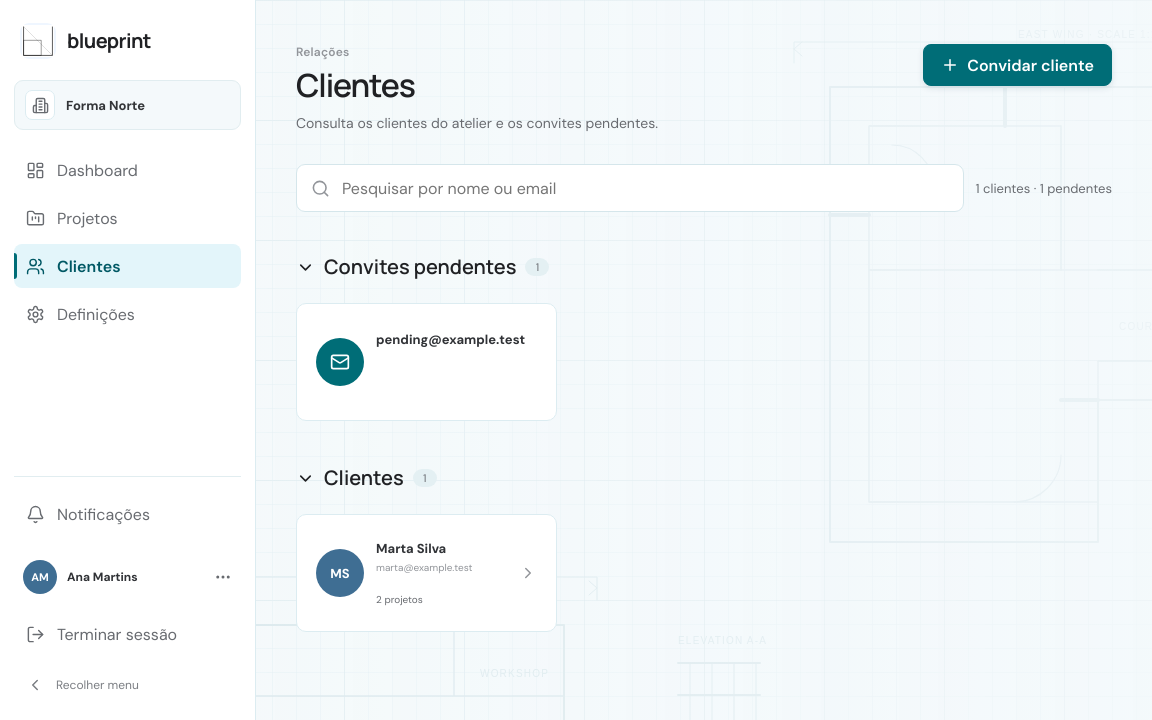
Test: CompanyClientPage › keeps the invite dialog open and reports duplicate invitation errors
The image size is (1152, 720).
Step 1. Click the button "Convidar cliente" → (1018, 65), box left=923, top=44, right=1112, bottom=86
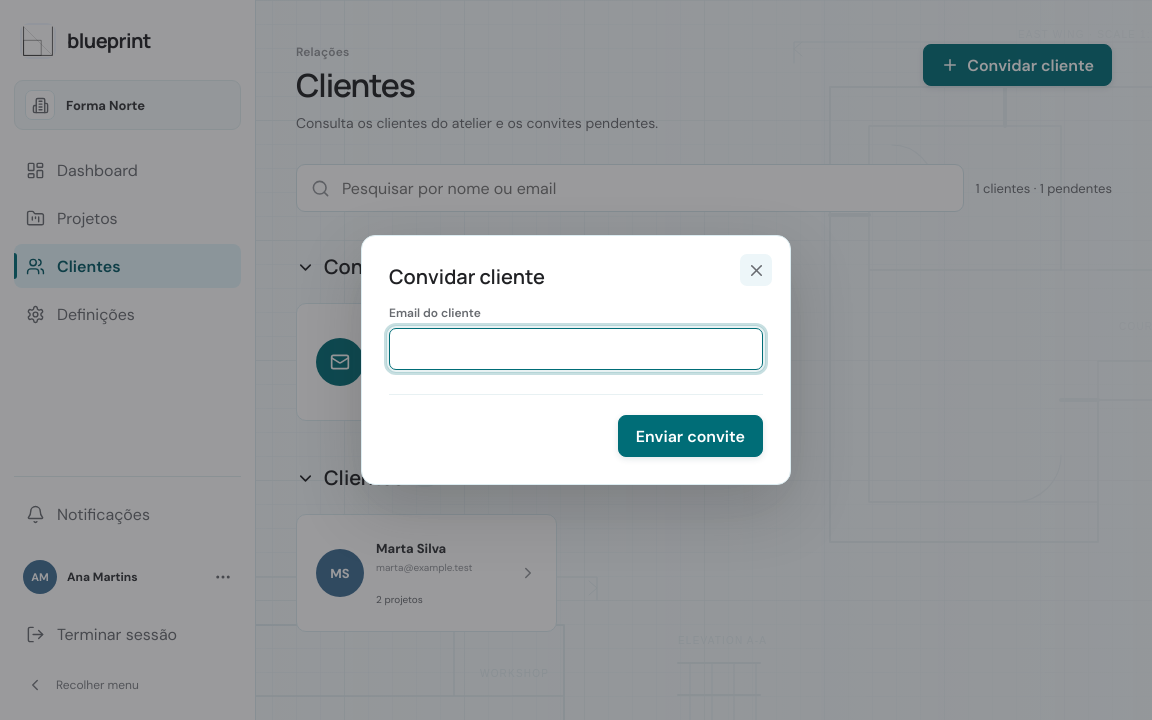
Step 2. Type "pending@example.test" into the field labelled "Email do cliente" → (576, 349), box left=389, top=328, right=763, bottom=370
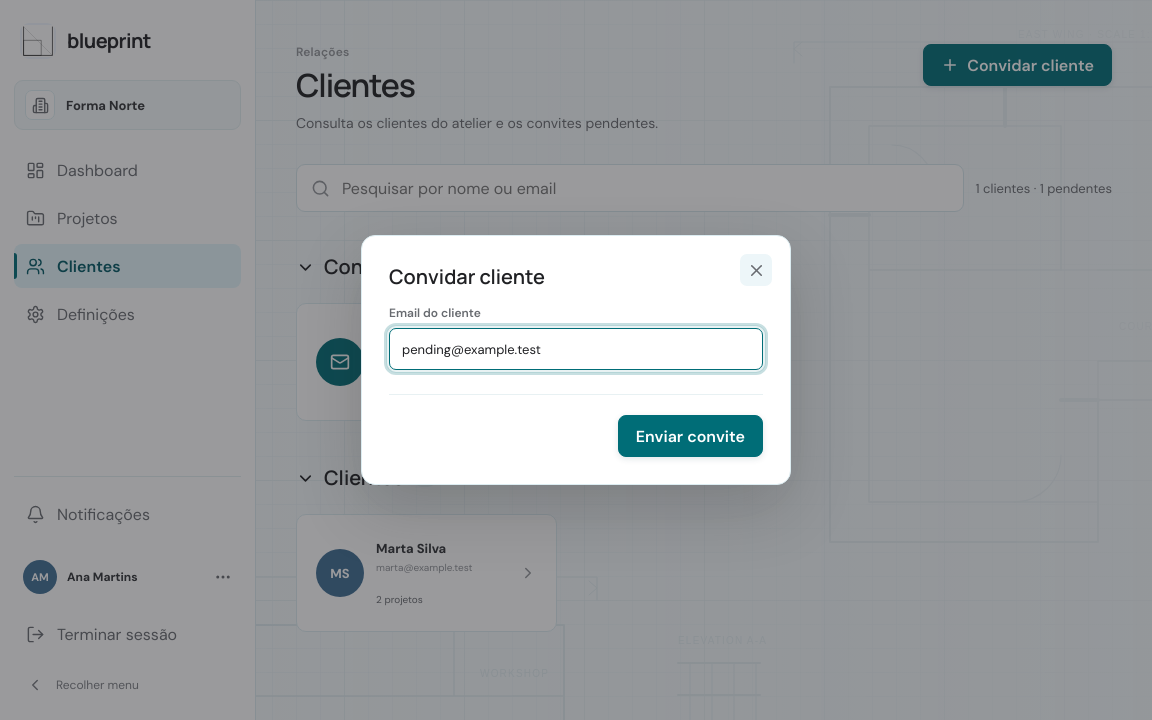
Step 3. Click the button "Enviar convite" → (690, 436), box left=618, top=415, right=763, bottom=457
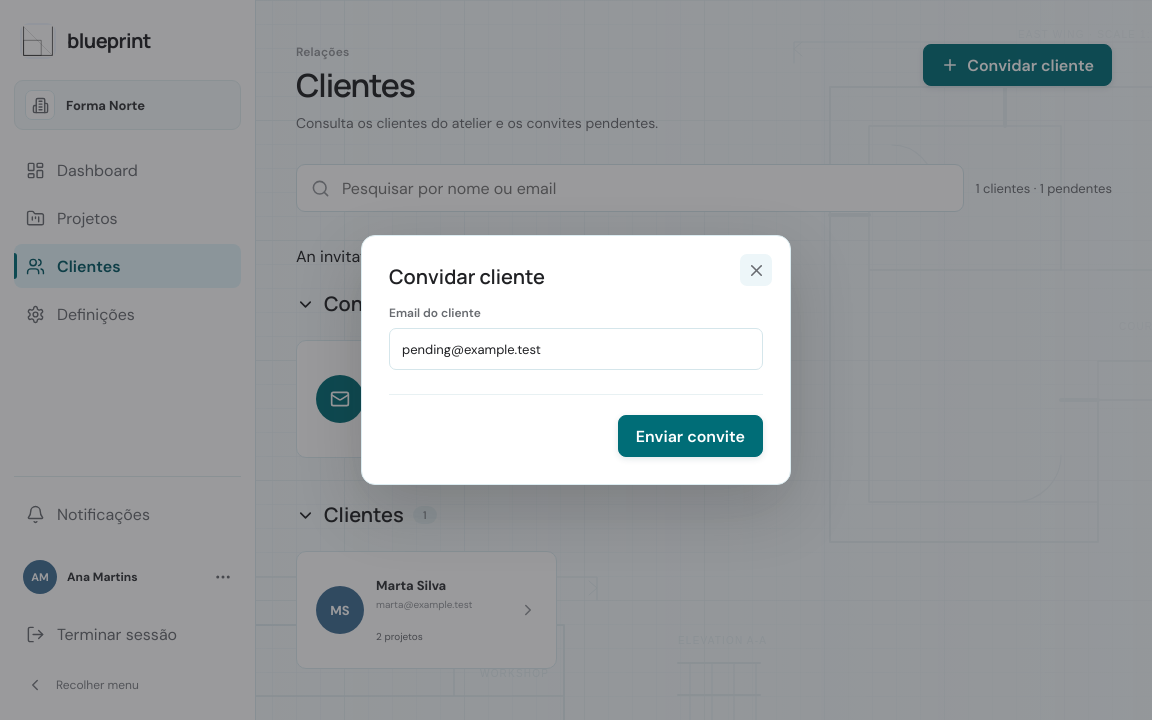
Result: the heading "Convidar cliente" is shown at left=389, top=263, right=545, bottom=290
Result: the message shows "already pending" at left=296, top=246, right=632, bottom=267
